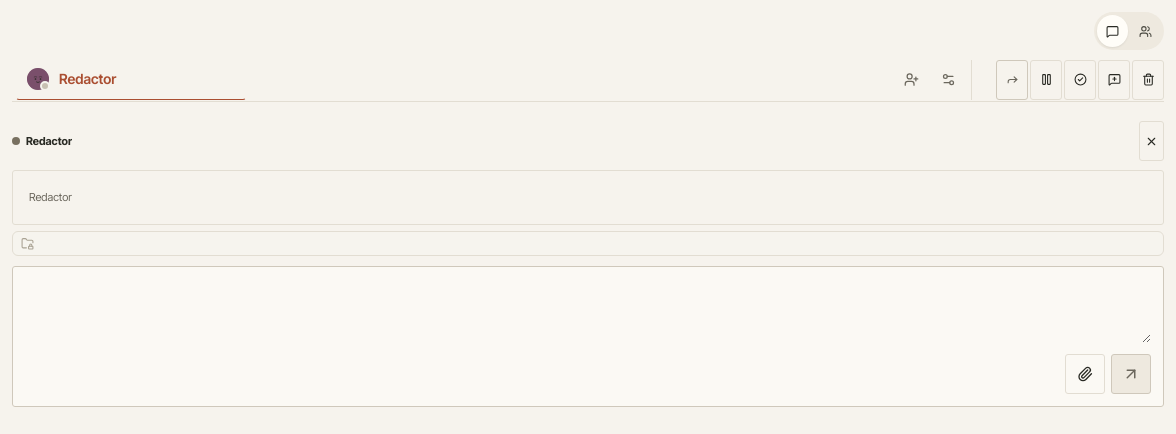
Test: B5.4 + C1: el estado del run se dibuja una sola vez › en modo Equipo hay un encabezado, ningún contador viejo y una sola salida
What coordinates should you click on to do the following:
click the button with class "team-rail-team"
I would click on:
 (1146, 31)
Its box is [1130,15,1161,47].
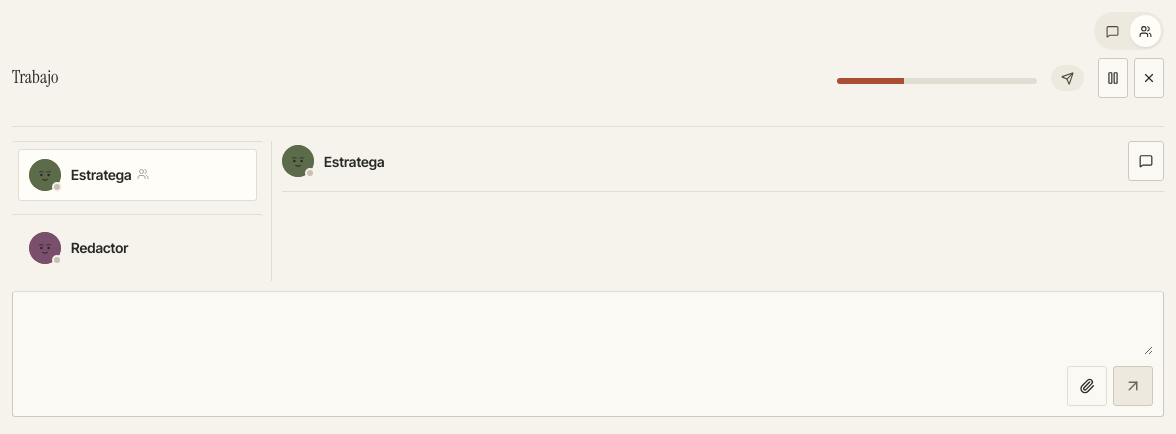
Expected: the number of elements with class "coord-head" is 1, [12,58,1164,127]
Expected: the number of buttons with class "team-cancel-coordination" is 1, [1134,58,1164,98]
